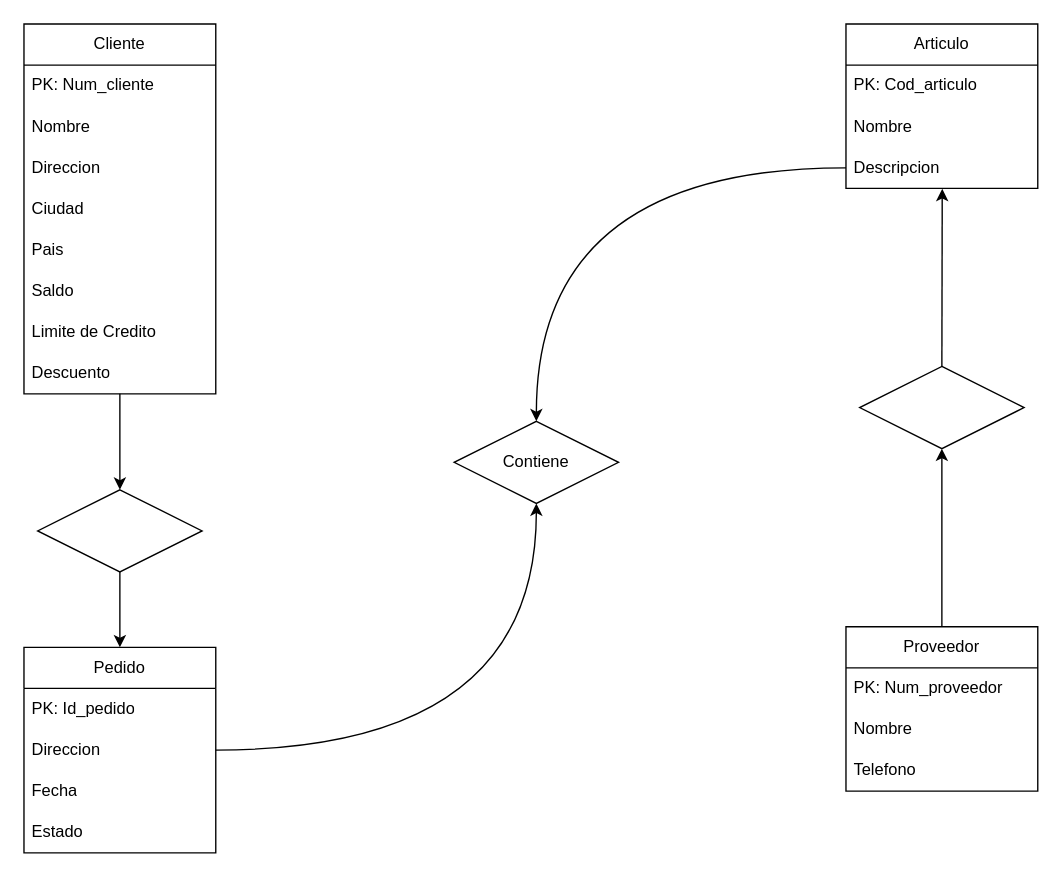
This 1062x877 diagram has some shape labels left out. Each missing label, with the box of its shape:
Pide: (36, 488, 202, 572)
Suministra: (858, 365, 1024, 449)
